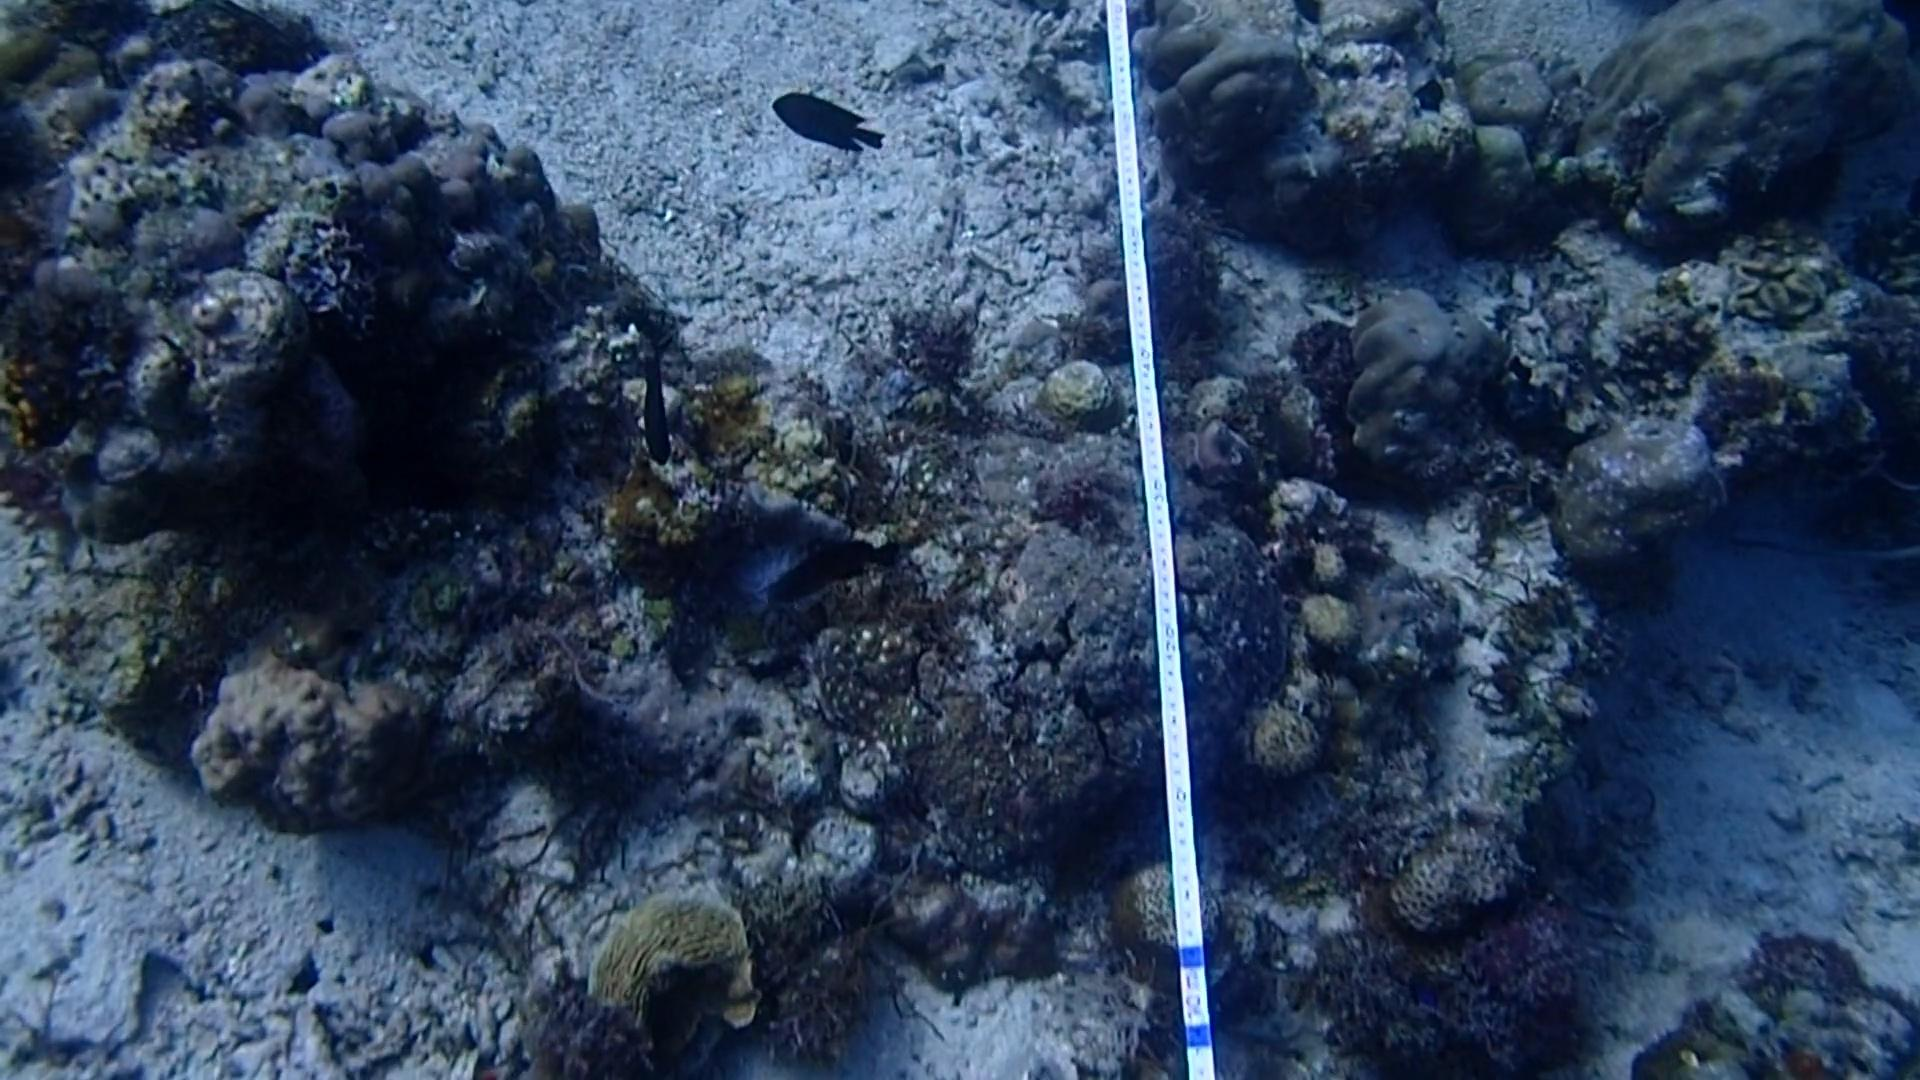Dark Fish: (761, 67, 897, 171), (753, 518, 897, 611), (621, 313, 690, 468)
